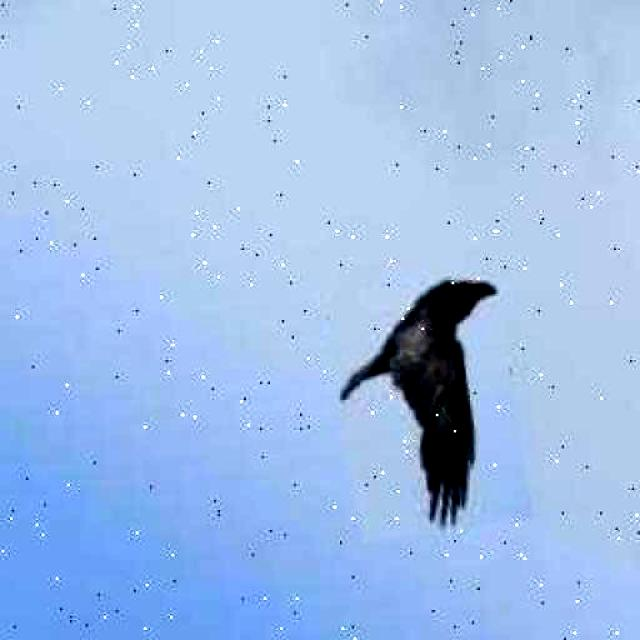airplane: (325, 270, 532, 544)
